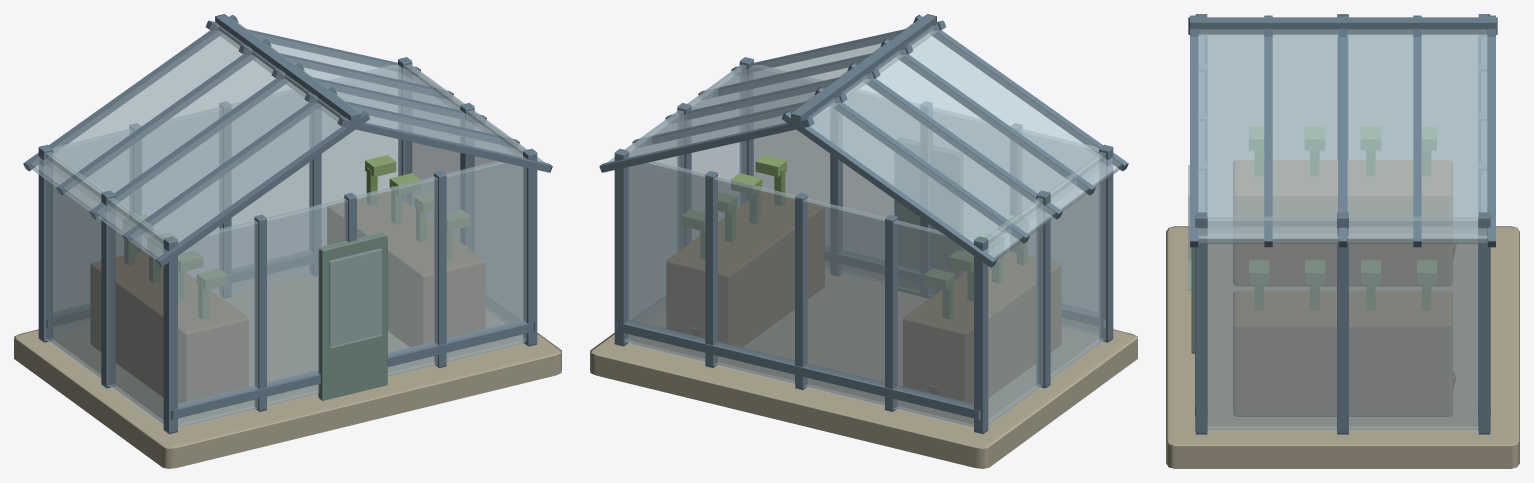
The model's file is greenhouse-2.glb.
3 views of the same model, side by side, from view 1: azimuth 30°, elevation 25°; view 2: azimuth 150°, elevation 25°; view 3: azimuth 270°, elevation 25° (orthographic). The views are drawn at different scales.
Parts seen in each view (by area): view 1: greenhouse-2-0, vegetable-crops; view 2: greenhouse-2-0, vegetable-crops; view 3: greenhouse-2-0, vegetable-crops.
Part boxes in pixels (bbox=[...]): greenhouse-2-0: bbox=[14, 14, 561, 468]; vegetable-crops: bbox=[124, 155, 469, 319]; greenhouse-2-0: bbox=[590, 14, 1137, 468]; vegetable-crops: bbox=[682, 155, 1027, 319]; greenhouse-2-0: bbox=[1166, 14, 1519, 468]; vegetable-crops: bbox=[1249, 127, 1436, 309].
Size of the model in its own units: 2.8 by 2.01 by 1.9.
